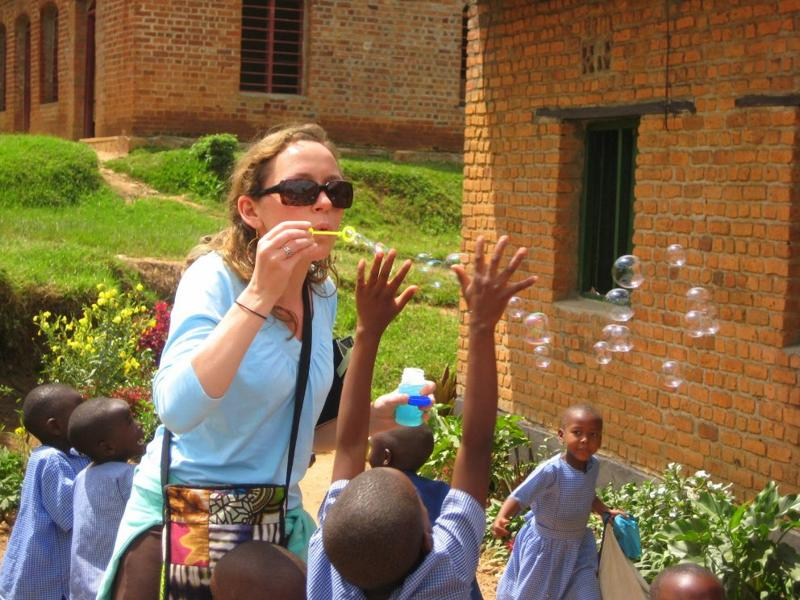person: (88, 121, 448, 600)
